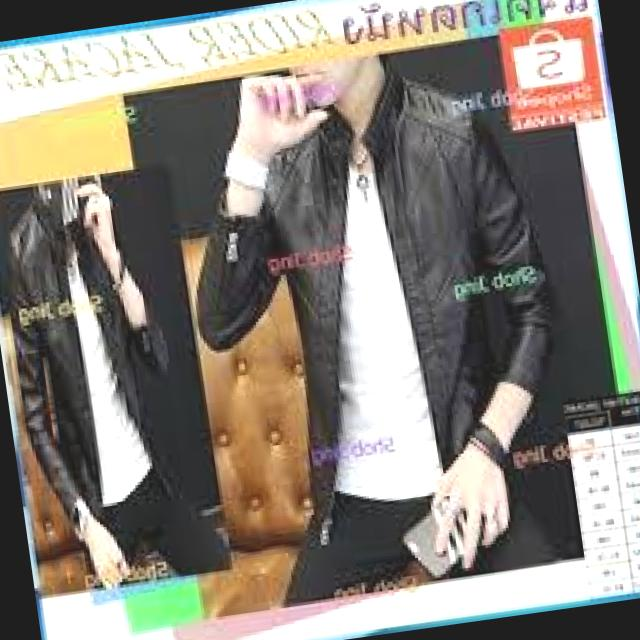jacket: (181, 48, 587, 540), (0, 183, 204, 541)
